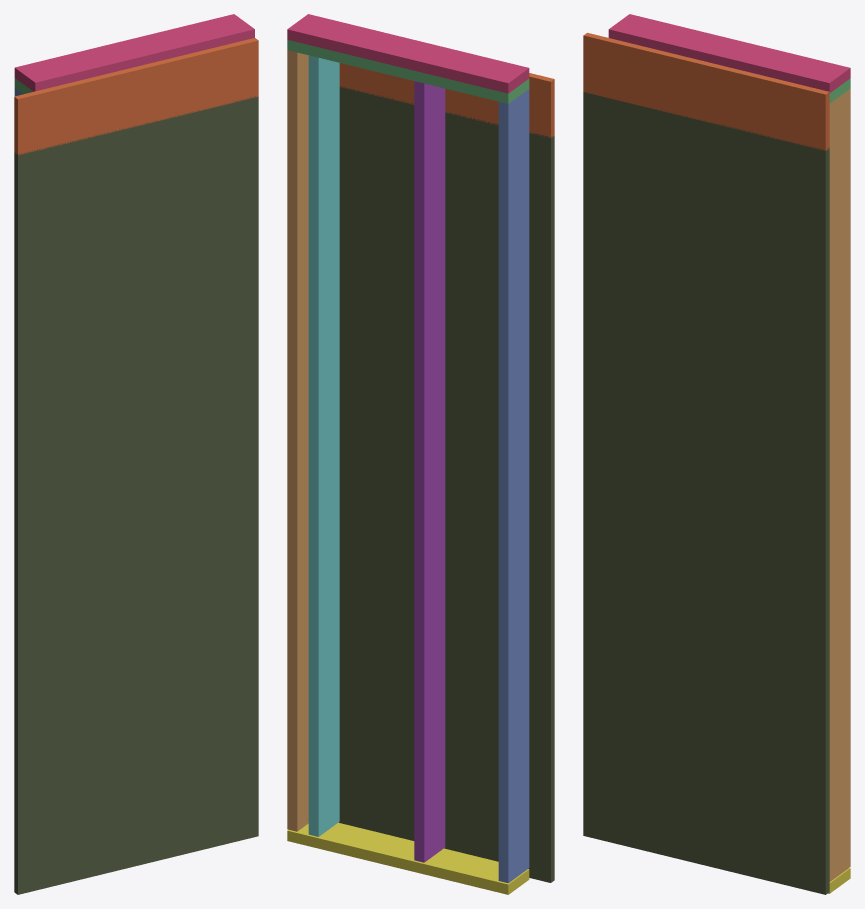
The picture shows the model from 3 angles, left to right: view 1: azimuth 30°, elevation 25°; view 2: azimuth 150°, elevation 25°; view 3: azimuth 330°, elevation 25°; orthographic projection.
Visible parts, largest first — view 1: world; view 2: world; view 3: world.
Part boxes in pixels (x1,y1,x2,y2): world: [14, 14, 258, 894]; world: [287, 14, 554, 894]; world: [583, 14, 850, 894].
Bounding box in the file's own units: 36.75 × 118 × 6.5.
